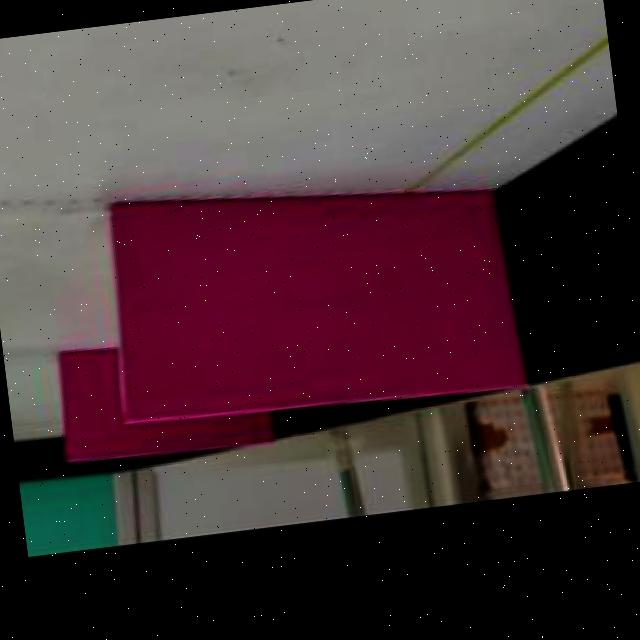xparking: (108, 154, 516, 432), (56, 344, 126, 466)
